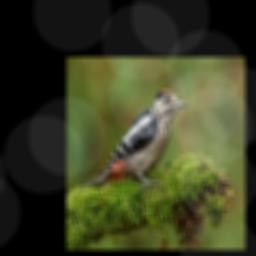Woodpecker: (83, 89, 187, 190)
